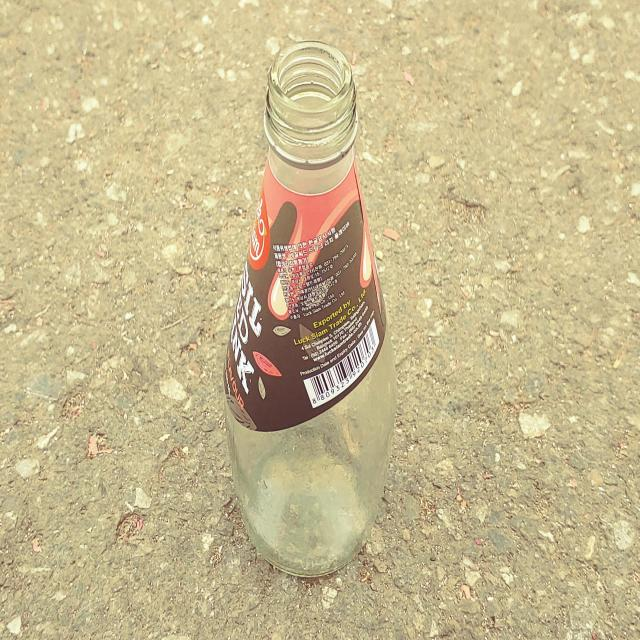glass: (224, 40, 396, 578)
